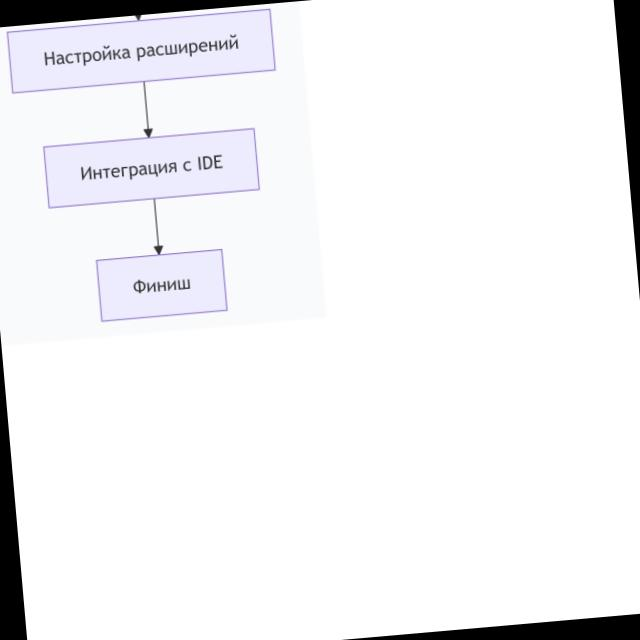arrow: (137, 83, 155, 138), (148, 199, 165, 255)
rectangle: (6, 7, 277, 93), (42, 127, 261, 209), (95, 248, 228, 322)
